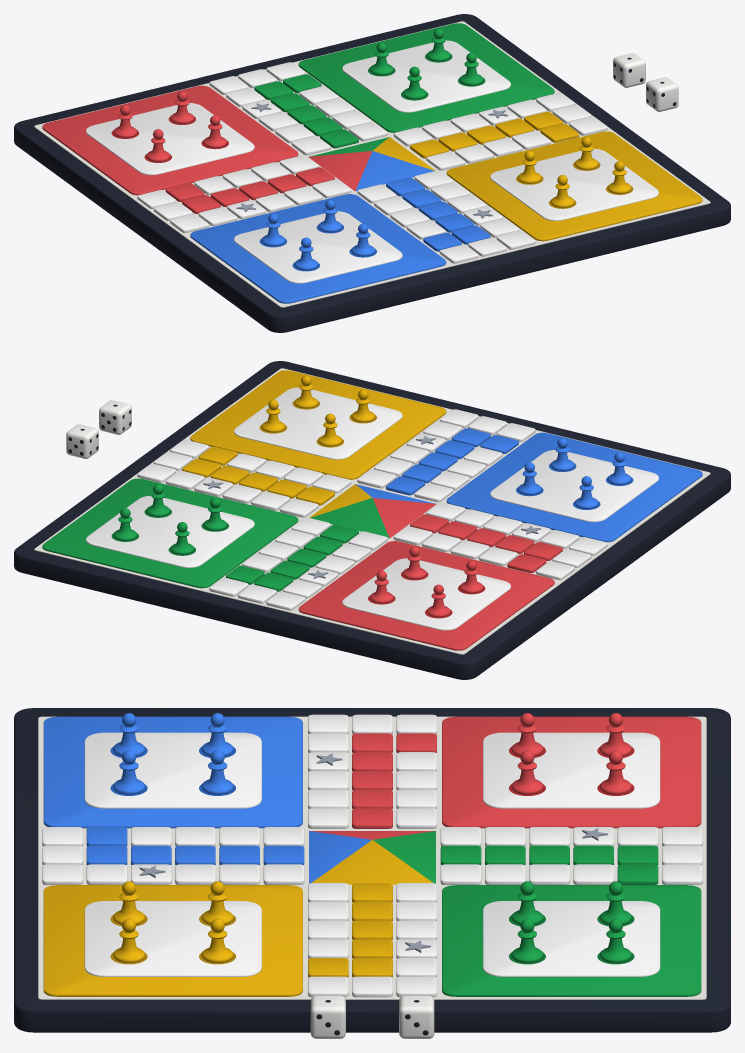
The model's file is ludo_set.glb.
3 views of the same model, one above another, from view 1: azimuth 30°, elevation 25°; view 2: azimuth 150°, elevation 25°; view 3: azimuth 270°, elevation 25° (orthographic). The views are drawn at different scales.
Parts seen in each view (by area): view 1: Board, Die_1, Die_0; view 2: Board, Die_0, Die_1; view 3: Board, Die_1, Die_0, Token_Blue_1, Token_Red_3, Token_Blue_3, Token_Red_1, Token_Green_3, Token_Yellow_1, Token_Green_1, Token_Yellow_3, Token_Blue_0 (+7 smaller).
Part boxes in pixels (<box>): Board: <box>14,14,730,332</box>; Die_1: <box>646,77,678,111</box>; Die_0: <box>613,53,645,87</box>; Board: <box>14,361,730,679</box>; Die_0: <box>66,424,98,458</box>; Die_1: <box>99,400,131,434</box>; Board: <box>14,708,730,1032</box>; Die_1: <box>310,995,346,1038</box>; Die_0: <box>398,995,434,1038</box>; Token_Blue_1: <box>201,750,233,794</box>; Token_Red_3: <box>511,750,543,794</box>; Token_Blue_3: <box>113,750,144,794</box>; Token_Red_1: <box>600,750,631,794</box>; Token_Green_3: <box>511,918,543,962</box>; Token_Yellow_1: <box>201,918,233,962</box>; Token_Green_1: <box>600,918,631,962</box>; Token_Yellow_3: <box>113,918,144,962</box>; Token_Blue_0: <box>201,713,233,756</box>.
Size of the model in its own units: 18.11 by 1.63 by 16.2.
